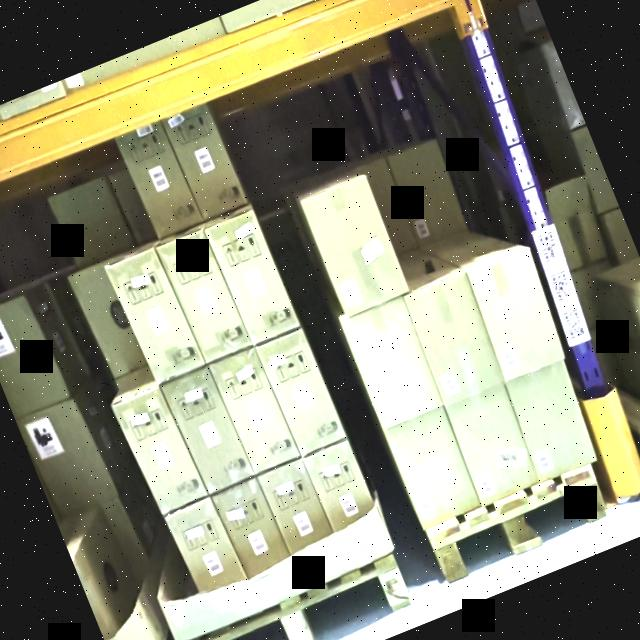box: (301, 175, 410, 312), (341, 294, 447, 433), (400, 271, 502, 404), (106, 250, 202, 382), (205, 210, 299, 344), (209, 341, 303, 474), (382, 408, 482, 532), (468, 246, 564, 374), (162, 362, 255, 491), (256, 327, 346, 457), (159, 232, 249, 360), (258, 331, 349, 457), (502, 362, 596, 480), (164, 102, 253, 224), (446, 386, 539, 502), (116, 390, 204, 512), (120, 126, 200, 238)
